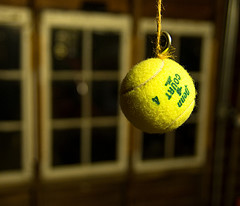tennis ball: (117, 55, 199, 136)
